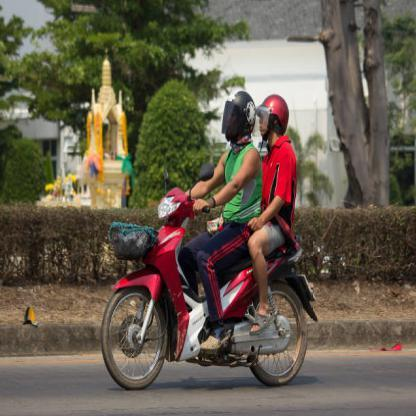Motorcycle: (96, 163, 310, 397)
